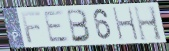6: (92, 7, 113, 42)
B: (66, 9, 93, 44)
E: (42, 9, 71, 44)
F: (19, 11, 42, 45)
H: (132, 5, 165, 43), (111, 6, 140, 43)
